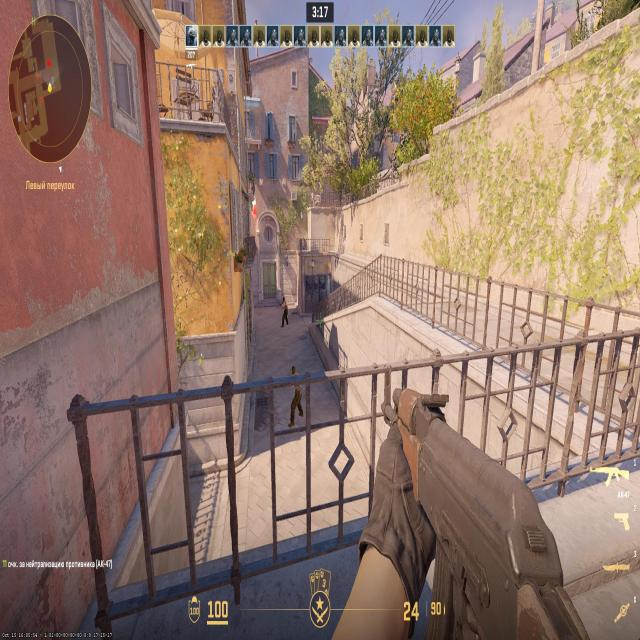T: (282, 297, 288, 328)
T_heat: (284, 300, 287, 307)
